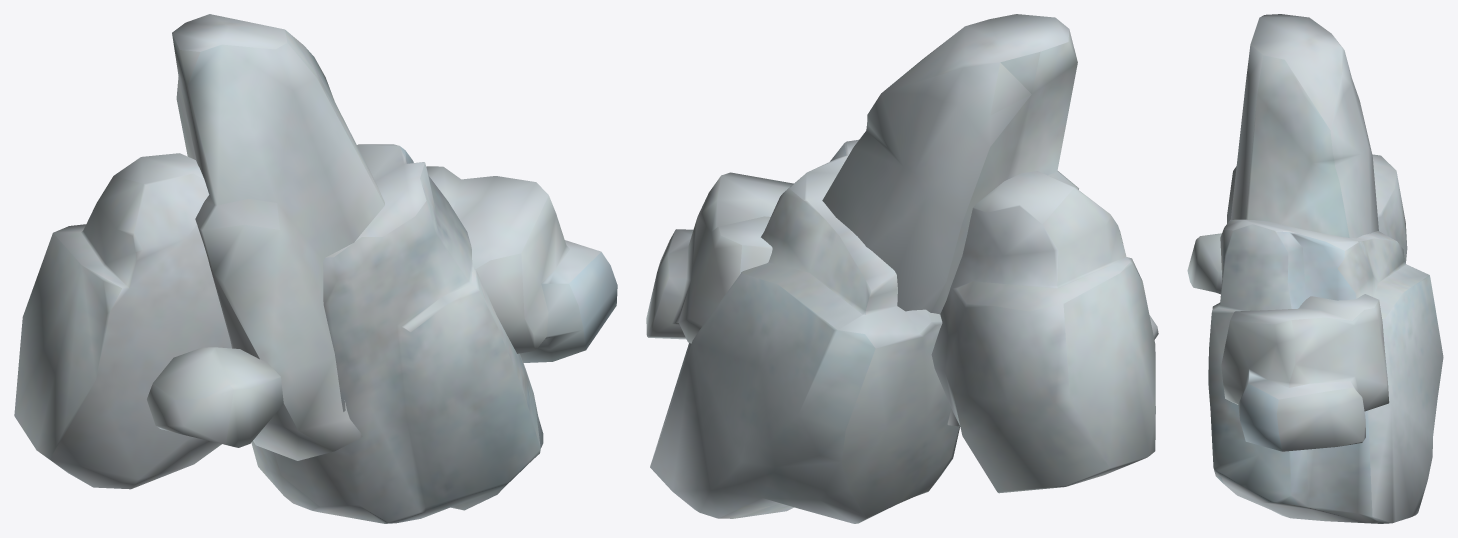
File: P_RockSpire_RockClumpC04.obj
The picture shows the model from 3 angles, left to right: view 1: azimuth 30°, elevation 25°; view 2: azimuth 150°, elevation 25°; view 3: azimuth 270°, elevation 25°; orthographic projection. The views are drawn at different scales.
Bounding box in the file's own units: 27.6 × 25.71 × 14.6.
